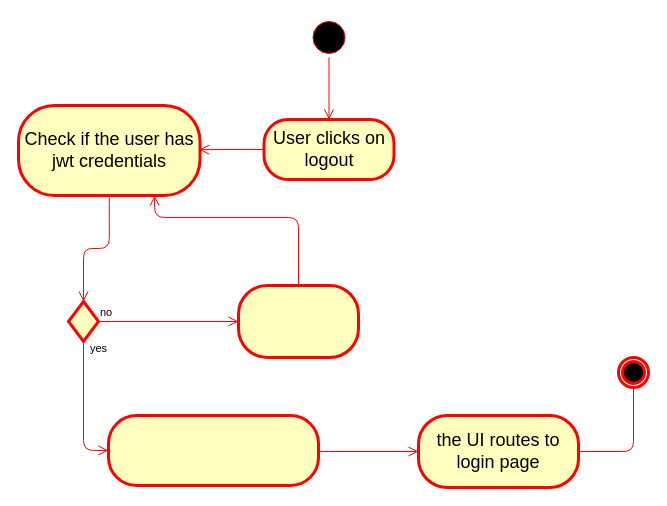
This 667x506 diagram has some shape labels left out. Here are the shapes that lost their labels. From the top down, the centre of each, then its label:
the point at 298,321: ask for providing credentials
the point at 213,450: the session is deleted from database
